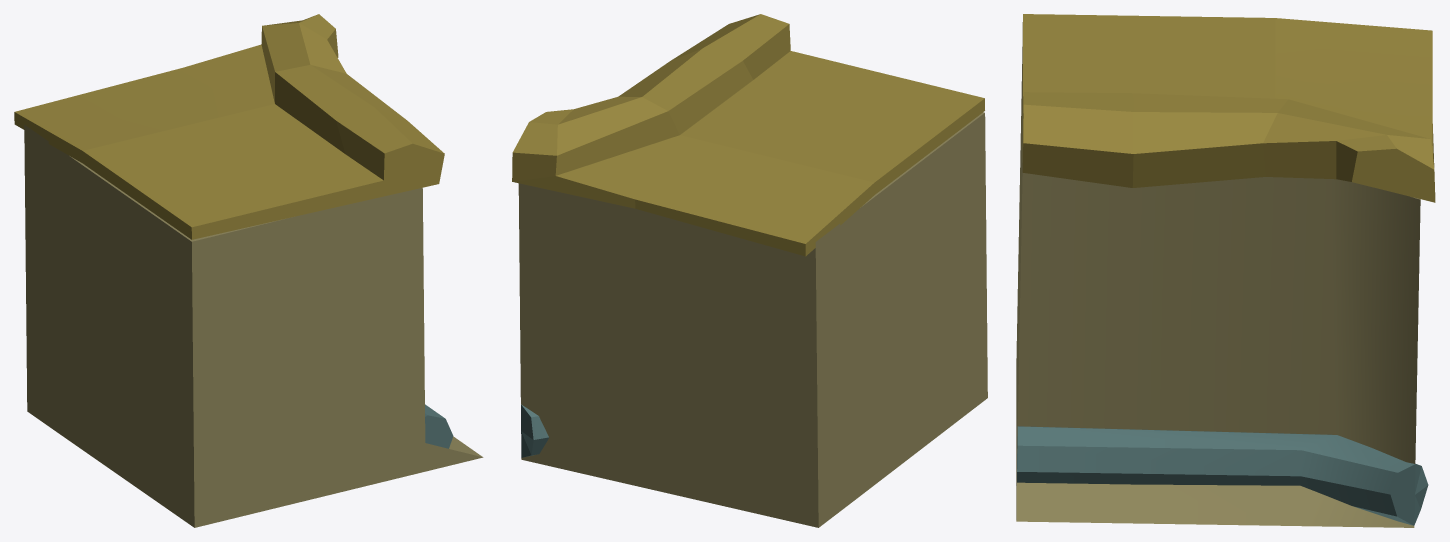
The model's file is Int_22_Wall_Corner_U_L.fbx.
3 renders of one model, left to right at view 1: azimuth 30°, elevation 25°; view 2: azimuth 150°, elevation 25°; view 3: azimuth 270°, elevation 25°, orthographic. The views are drawn at different scales.
Parts seen in each view (by area): view 1: Int_22_Wall_Corner_U_L; view 2: Int_22_Wall_Corner_U_L; view 3: Int_22_Wall_Corner_U_L.
Boxes of the visible parts, left/top/right/bottom form: Int_22_Wall_Corner_U_L: left=14, top=14, right=483, bottom=527; Int_22_Wall_Corner_U_L: left=512, top=14, right=987, bottom=527; Int_22_Wall_Corner_U_L: left=1016, top=14, right=1435, bottom=527.
Size of the model in its own units: 0.9944 by 1.1 by 1.08.
